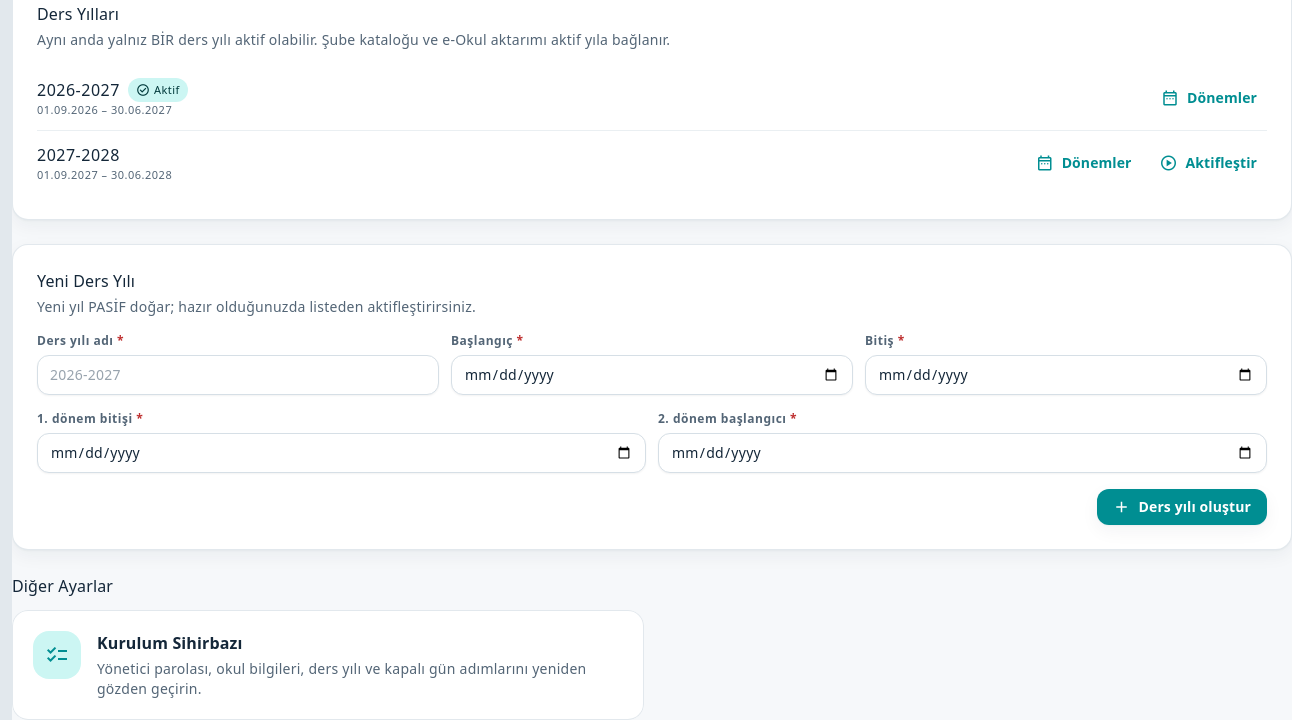
AyarlarPage — ders yılları › boş formda istek atılmaz, eksik alanlar işaretlenir
(page scrolled)
Check: the text "2026-2027" is shown, box 37,79 -> 120,101
Click the button "Ders yılı oluştur": (1182, 507) 1097,489 -> 1267,525
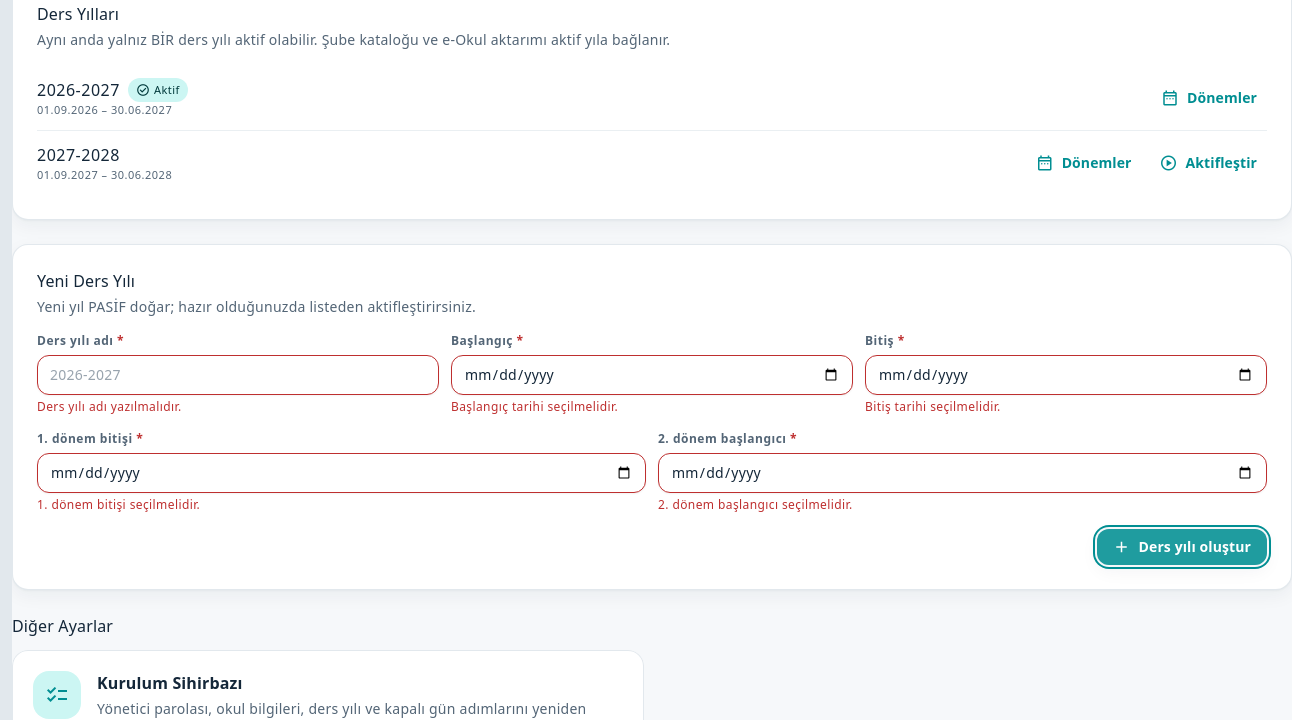
Check: the text "Ders yılı adı yazılmalıdır." is shown, box 37,398 -> 182,415
